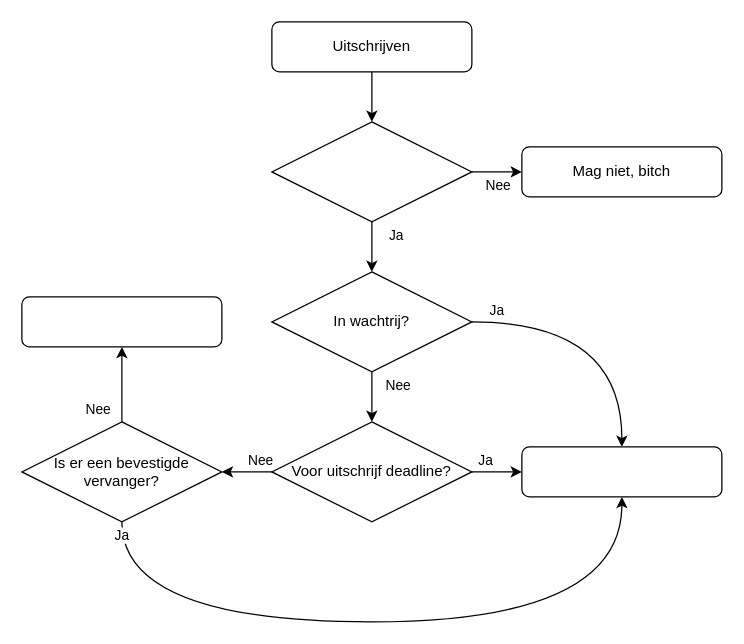
This 744x644 diagram has some shape labels left out. The centre of each missing label's shape, as x and y in pixels:
"Inschrijven mogelijk en activiteit niet gestart?" belongs at point (371, 171).
"Ok, doei" belongs at point (621, 471).
"Rekt, betalen!" belongs at point (121, 321).
